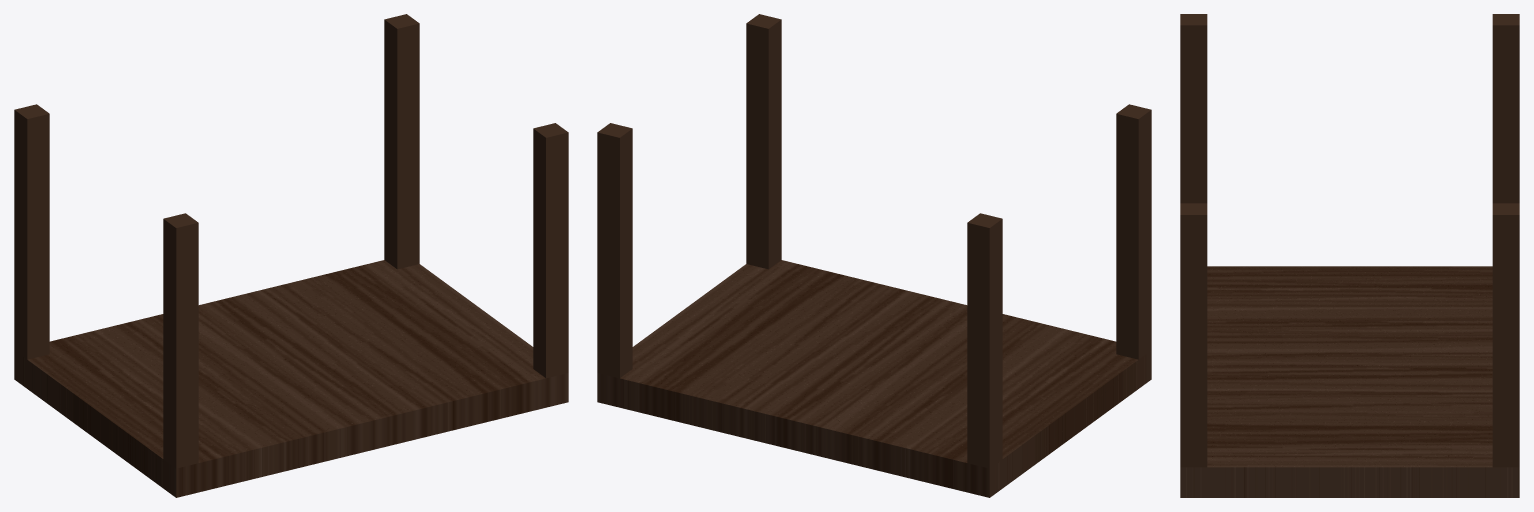
The picture shows the model from 3 angles, left to right: view 1: azimuth 30°, elevation 25°; view 2: azimuth 150°, elevation 25°; view 3: azimuth 270°, elevation 25°; orthographic projection. The views are drawn at different scales.
Parts seen in each view (by area): view 1: box_3_2_2; view 2: box_3_2_2; view 3: box_3_2_2.
Part boxes in pixels (x1,y1,x2,y2): box_3_2_2: [14, 14, 568, 497]; box_3_2_2: [597, 14, 1151, 497]; box_3_2_2: [1180, 14, 1519, 497].
Size of the model in its own units: 0.14 by 0.092 by 0.1.
Materials: 2 (1 with a texture image).
